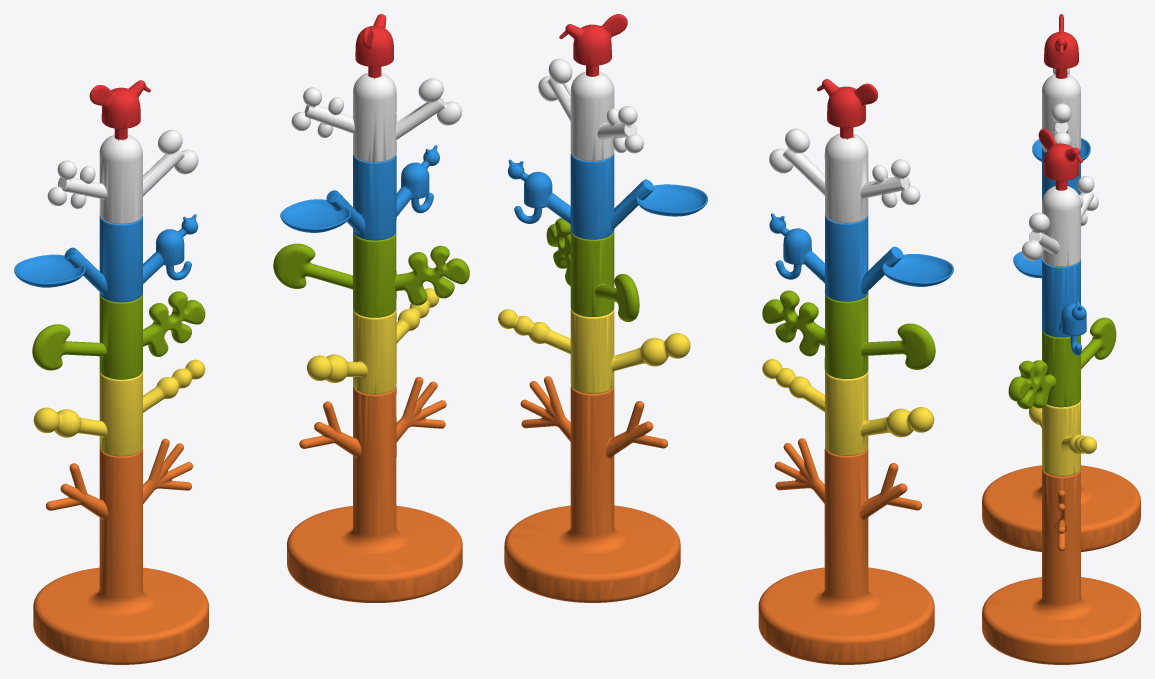
Rendered from dimensiva-paradise-tree-coat-stand-by-magis.optimized.glb.
3 renders of one model, left to right at view 1: azimuth 30°, elevation 25°; view 2: azimuth 150°, elevation 25°; view 3: azimuth 270°, elevation 25°, orthographic. The views are drawn at different scales.
Visible parts, largest first — view 1: Paradise Tree Coat Stand; view 2: Paradise Tree Coat Stand; view 3: Paradise Tree Coat Stand.
Part boxes in pixels (x1,y1,x2,y2): Paradise Tree Coat Stand: (14, 14, 469, 664); Paradise Tree Coat Stand: (498, 14, 953, 664); Paradise Tree Coat Stand: (982, 14, 1140, 664).
Size of the model in its own units: 1.57 by 1.9 by 0.5499.
Materials: 1 (1 with a texture image).
